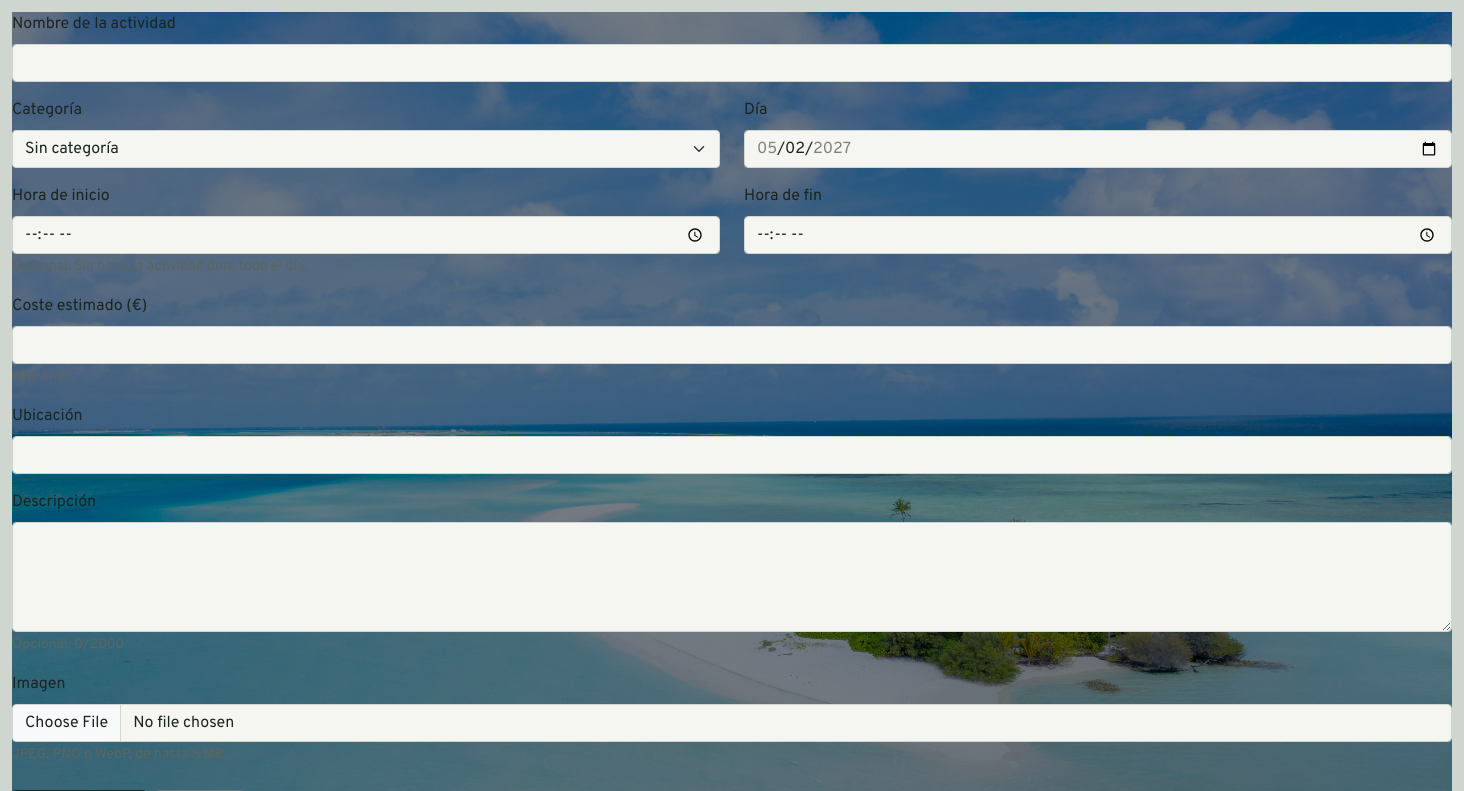
B5 ActivityForm creating › shows a counter for the description
Type "hola" into the text box labelled "Descripción".
click(732, 577); type("hola")  # box 12,522 -> 1452,632
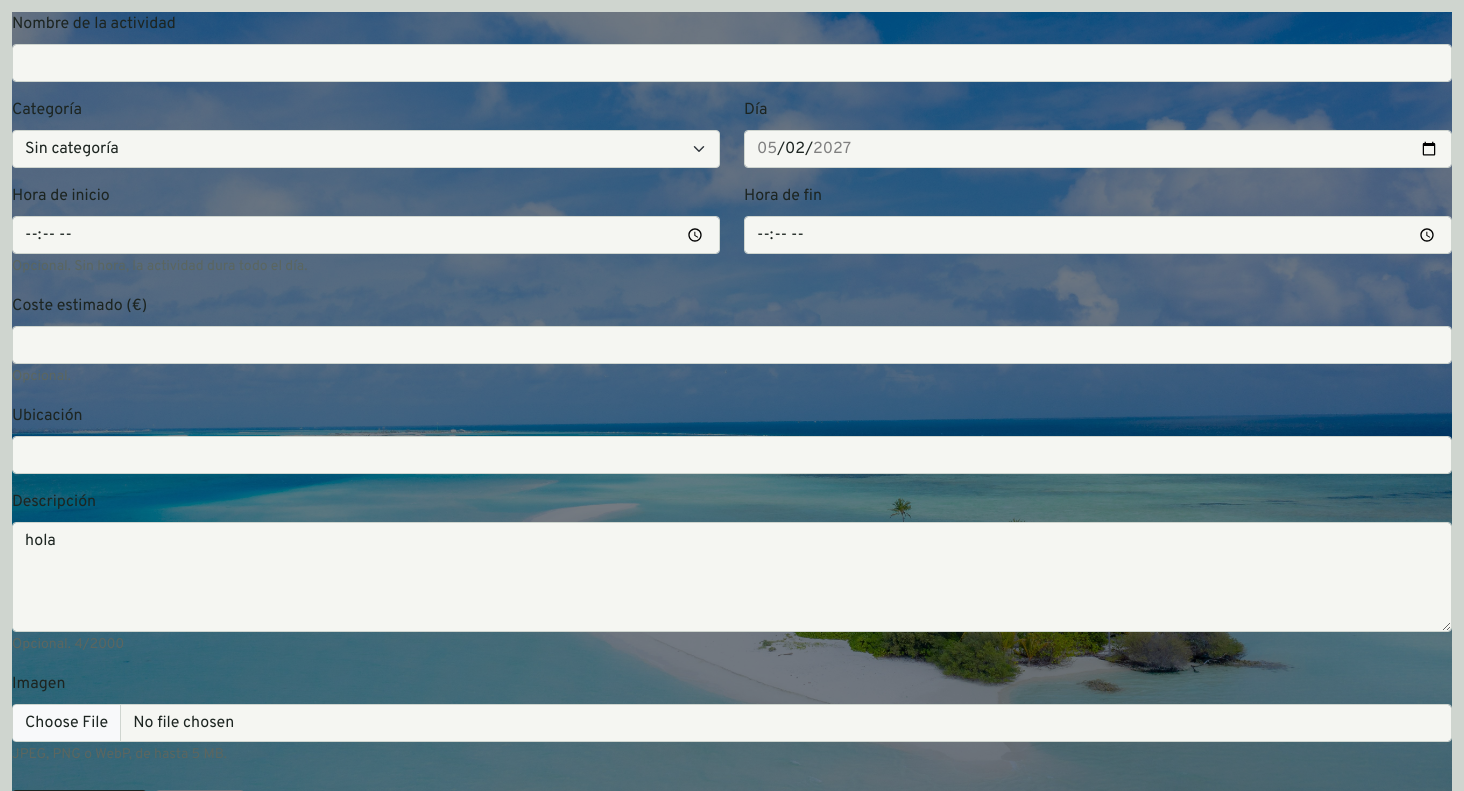
Now the text "Opcional. 4/2000" is shown, box 12,636 -> 124,653
